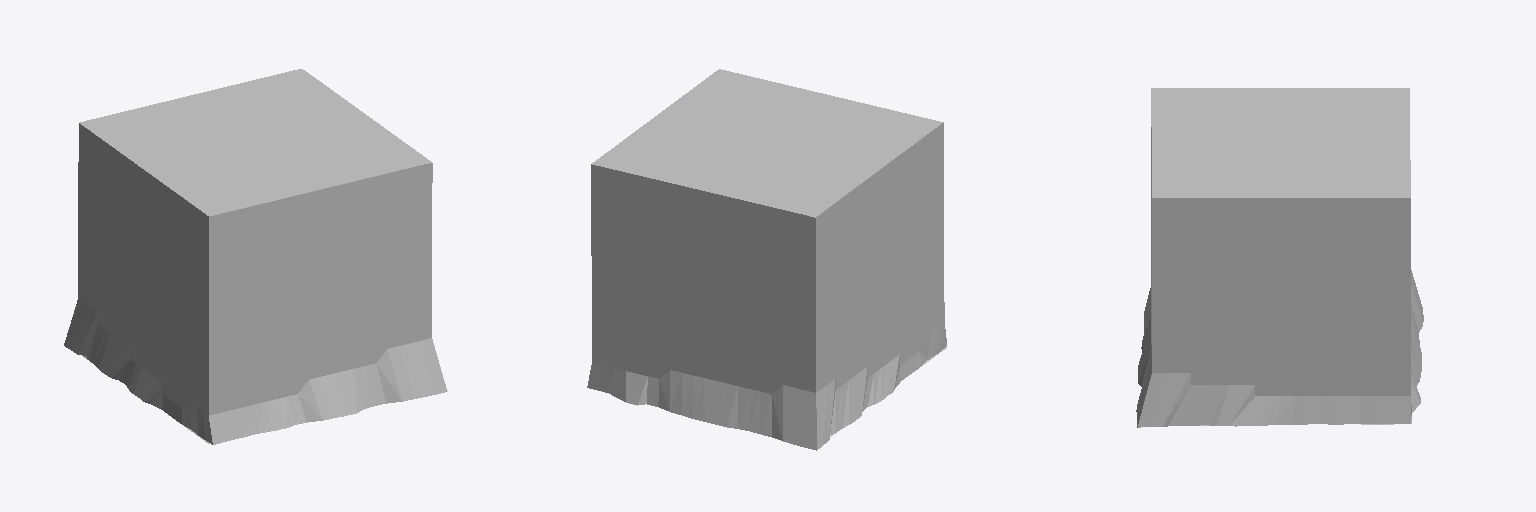
Rendered from mod0187.obj.
The picture shows the model from 3 angles: view 1: azimuth 30°, elevation 25°; view 2: azimuth 150°, elevation 25°; view 3: azimuth 270°, elevation 25°; orthographic projection.
Parts seen in each view (by area): view 1: Box001; view 2: Box001; view 3: Box001.
Part boxes in pixels (x1,y1,x2,y2): Box001: (64,69,447,444); Box001: (587,69,946,450); Box001: (1136,88,1423,427).
Bounding box in the file's own units: 0.5799 × 0.5223 × 0.5979.